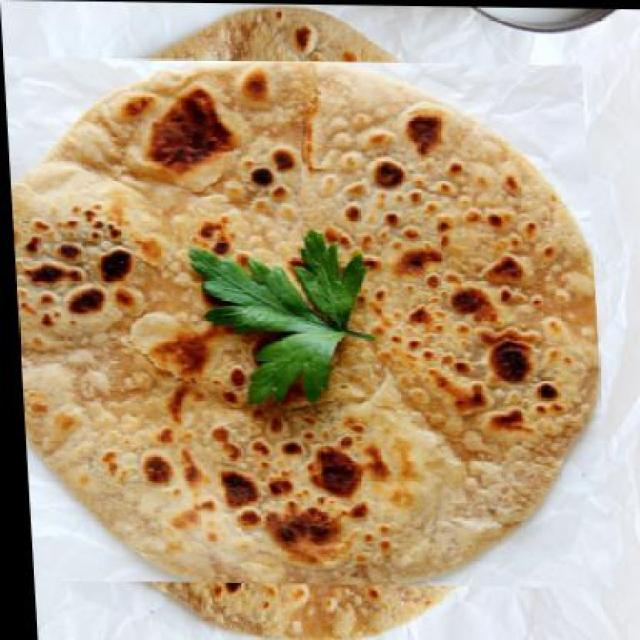chapati: (1, 29, 582, 616)
